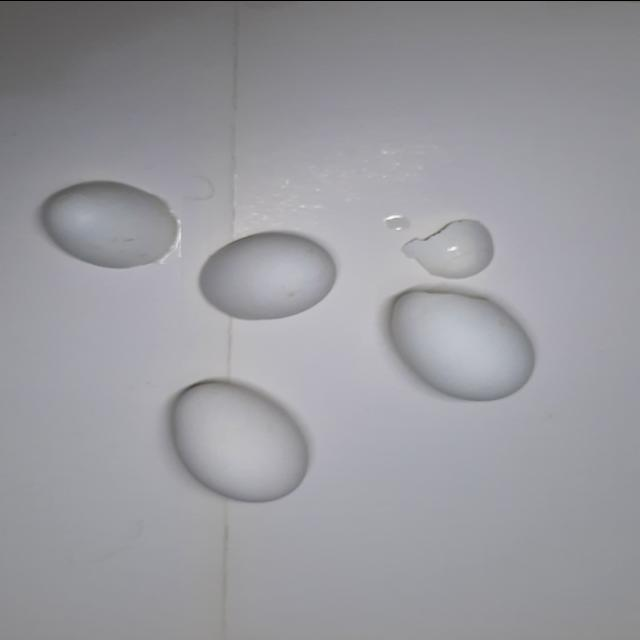egg shell: (160, 372, 314, 509), (385, 282, 540, 404), (35, 176, 185, 272), (193, 229, 349, 321), (404, 218, 498, 284)
